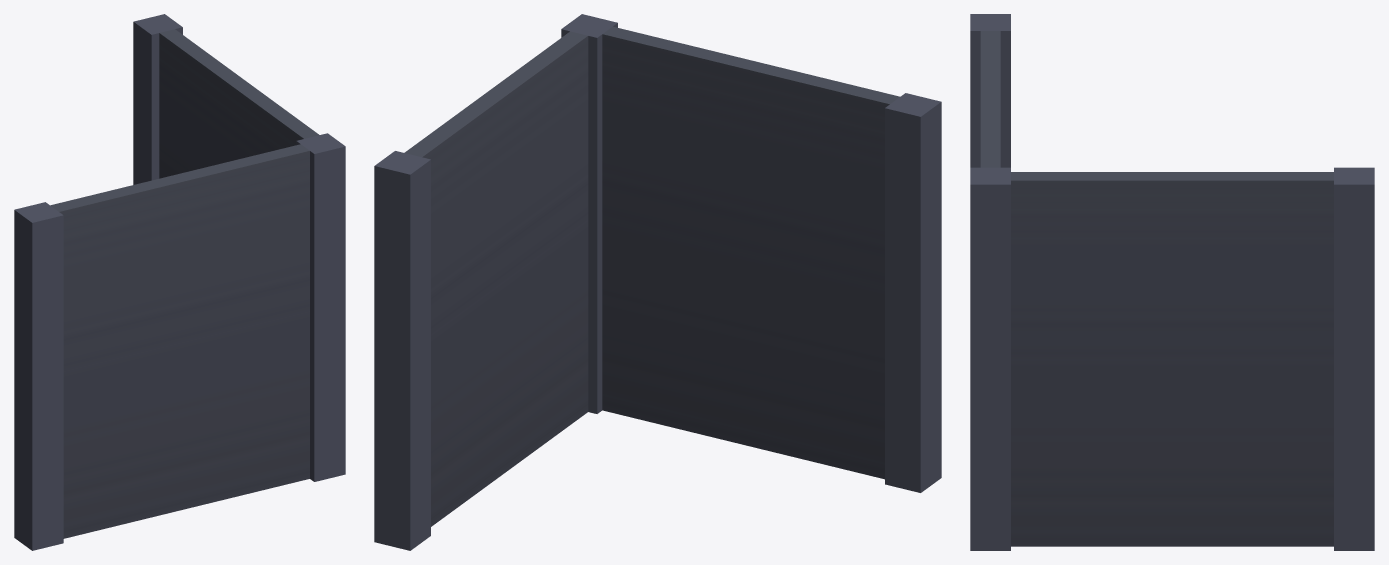
File: wall-corner.glb
3 views of the same model, side by side, from view 1: azimuth 30°, elevation 25°; view 2: azimuth 150°, elevation 25°; view 3: azimuth 270°, elevation 25° (orthographic). The views are drawn at different scales.
Visible parts, largest first — view 1: wall-corner; view 2: wall-corner; view 3: wall-corner.
Part boxes in pixels (x1,y1,x2,y2): wall-corner: (14,14,345,550); wall-corner: (374,14,941,550); wall-corner: (970,14,1374,550).
Size of the model in its own units: 1 by 1 by 1.
1 material, 1 textured.
